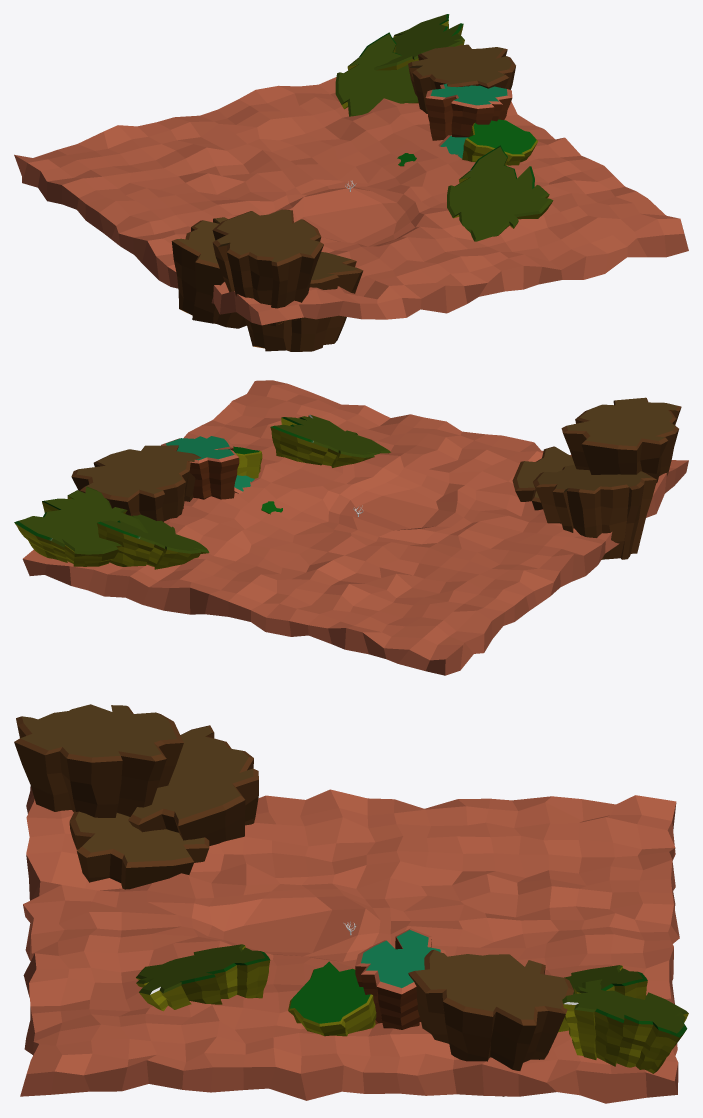
The model's file is PreLevel.fbx_Scene.fbx.
3 views of the same model, one above another, from view 1: azimuth 30°, elevation 25°; view 2: azimuth 150°, elevation 25°; view 3: azimuth 270°, elevation 25° (orthographic). The views are drawn at different scales.
Parts seen in each view (by area): view 1: ground, clef.001, Plane.001, Plane.003, clef.003, Plane.004, Plane.006; view 2: ground, clef.001, Plane.001, clef.003, Plane.003, Plane.004, Plane.006; view 3: ground, clef.001, clef.003, Plane.001, Plane.003, Plane.004, Plane.006.
Part boxes in pixels (bbox=[...]): ground: bbox=[14, 77, 688, 325]; clef.001: bbox=[171, 209, 363, 351]; Plane.001: bbox=[335, 14, 464, 116]; Plane.003: bbox=[447, 145, 553, 241]; clef.003: bbox=[408, 44, 515, 113]; Plane.004: bbox=[425, 83, 512, 140]; Plane.006: bbox=[462, 119, 537, 165]; ground: bbox=[22, 380, 688, 675]; clef.001: bbox=[512, 397, 681, 559]; Plane.001: bbox=[14, 486, 209, 569]; clef.003: bbox=[71, 445, 201, 521]; Plane.003: bbox=[270, 414, 390, 467]; Plane.004: bbox=[161, 436, 239, 499]; Plane.006: bbox=[233, 446, 262, 478]; ground: bbox=[20, 786, 679, 1103]; clef.001: bbox=[14, 704, 258, 889]; clef.003: bbox=[408, 950, 573, 1096]; Plane.001: bbox=[558, 965, 688, 1073]; Plane.003: bbox=[136, 944, 270, 1011]; Plane.004: bbox=[355, 928, 445, 1029]; Plane.006: bbox=[288, 961, 376, 1036].
Bounding box in the file's own units: 31785 × 8623 × 31004.
